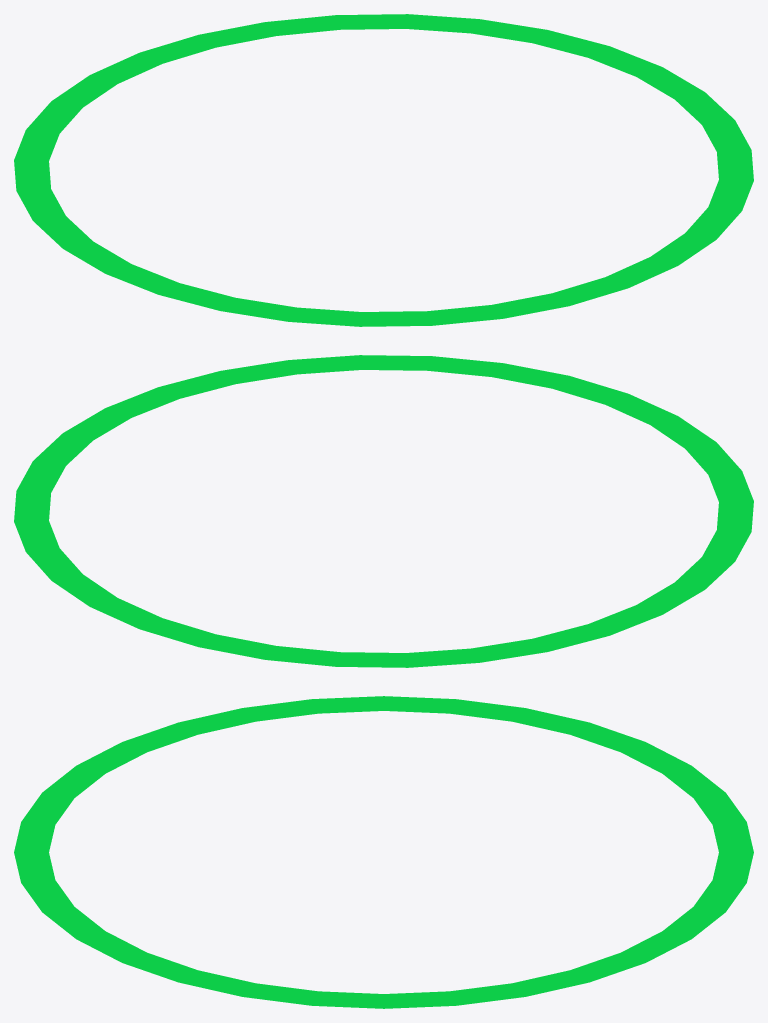
3 views of the same model, one above another, from view 1: azimuth 30°, elevation 25°; view 2: azimuth 150°, elevation 25°; view 3: azimuth 270°, elevation 25° (orthographic).
Visible parts, largest first — view 1: Circle; view 2: Circle; view 3: Circle.
Boxes of the visible parts, x1,y1,x2,y2 form: Circle: (14,14,753,326); Circle: (14,355,753,667); Circle: (14,696,753,1008).
Bounding box in the file's own units: 348 × 0 × 348.
